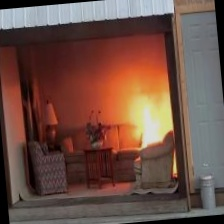fire: (141, 117, 161, 143)
